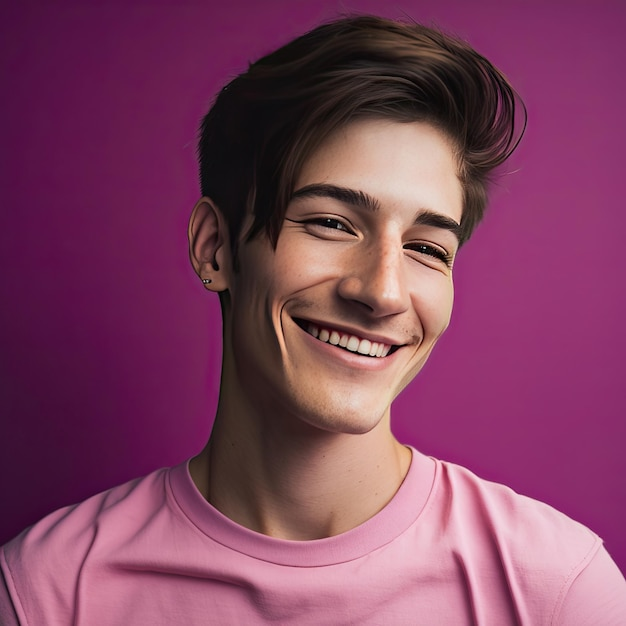teen: (205, 65, 491, 453)
